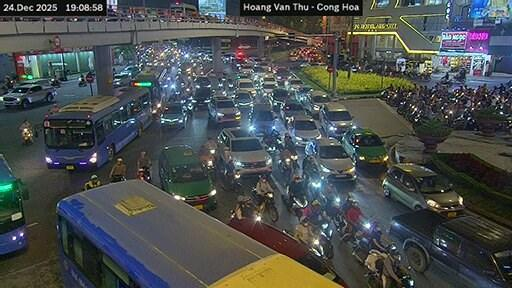motorbike: (364, 243, 413, 287), (310, 219, 332, 259), (281, 187, 307, 219), (352, 221, 371, 264), (259, 192, 278, 220), (220, 169, 240, 192), (278, 153, 293, 183), (262, 131, 281, 153), (307, 169, 320, 199), (201, 148, 214, 175), (22, 127, 32, 144), (141, 166, 150, 181), (77, 76, 86, 85), (111, 175, 124, 181), (51, 77, 59, 86), (217, 77, 223, 88), (252, 188, 258, 198)
